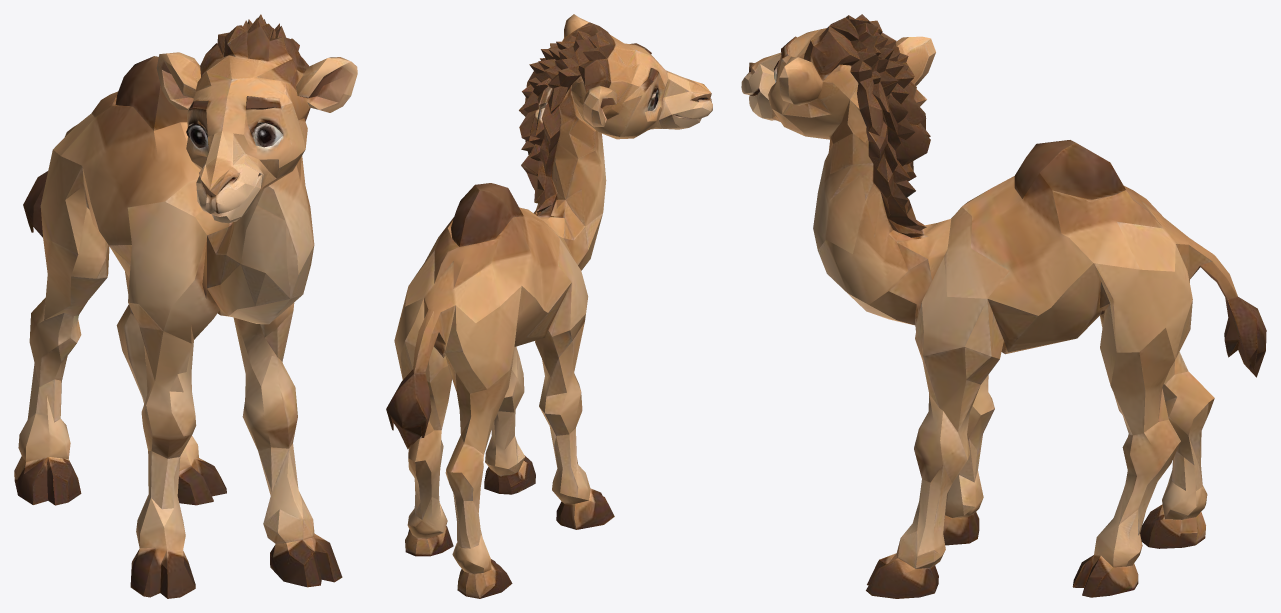
Rendered from camel.glb.
The picture shows the model from 3 angles, left to right: view 1: azimuth 30°, elevation 25°; view 2: azimuth 150°, elevation 25°; view 3: azimuth 270°, elevation 25°; orthographic projection. The views are drawn at different scales.
Size of the model in its own units: 0.7111 by 1.9 by 1.69.
1 material, 1 textured.
